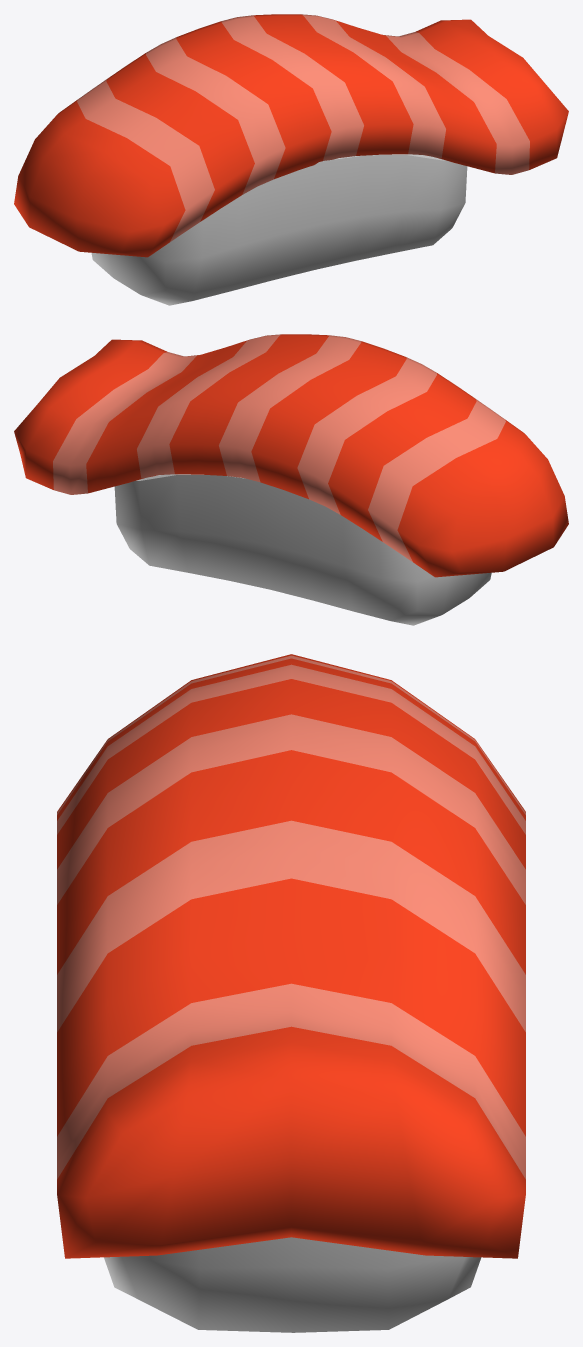
File: sushiPiece.FBX
3 views of the same model, one above another, from view 1: azimuth 30°, elevation 25°; view 2: azimuth 150°, elevation 25°; view 3: azimuth 270°, elevation 25° (orthographic). The views are drawn at different scales.
Parts seen in each view (by area): view 1: Box004; view 2: Box004; view 3: Box004.
Part boxes in pixels (<box>): Box004: <box>14,14,568,305</box>; Box004: <box>14,334,568,625</box>; Box004: <box>57,654,525,1332</box>.
Bounding box in the file's own units: 17.89 × 7.98 × 7.43.
